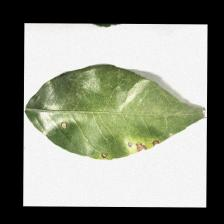canker: (110, 127, 168, 158)
